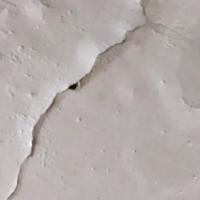crack: (9, 21, 153, 199)
